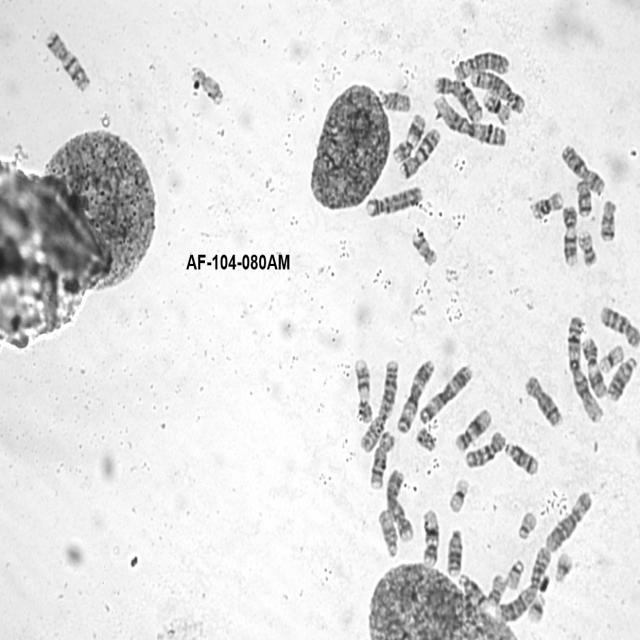A1: (565, 315, 604, 424), (433, 95, 508, 148)
A2: (498, 543, 552, 623), (359, 359, 399, 454)
A3: (419, 364, 474, 425), (396, 358, 436, 436)
B4: (384, 469, 415, 542), (364, 184, 424, 218)
B5: (470, 70, 526, 115), (434, 75, 484, 124)
C10: (598, 306, 640, 350), (464, 431, 509, 470)
C11: (390, 112, 424, 166), (581, 337, 608, 398)
C12: (454, 407, 492, 453), (420, 508, 440, 568)
C6: (545, 491, 594, 553), (453, 50, 510, 81)
C7: (48, 29, 92, 95), (399, 127, 442, 180)
C8: (524, 372, 563, 428), (369, 431, 395, 491)
C9: (353, 357, 374, 423), (561, 205, 579, 270)
D13: (604, 356, 638, 403), (446, 528, 464, 578)
D14: (504, 442, 540, 479), (458, 570, 487, 612)
D15: (376, 508, 399, 558), (378, 87, 411, 114)
E16: (528, 189, 564, 224), (481, 89, 513, 126)
E17: (189, 65, 225, 105), (410, 227, 439, 268)
E18: (599, 198, 616, 244), (576, 180, 593, 218)
F19: (444, 477, 469, 518), (598, 343, 624, 376)
F20: (576, 230, 598, 268), (486, 573, 506, 606)
G21: (554, 548, 574, 584), (525, 592, 546, 626)
G22: (514, 510, 540, 542), (505, 559, 525, 590)
X: (560, 142, 606, 196)
Y: (415, 425, 439, 453)
